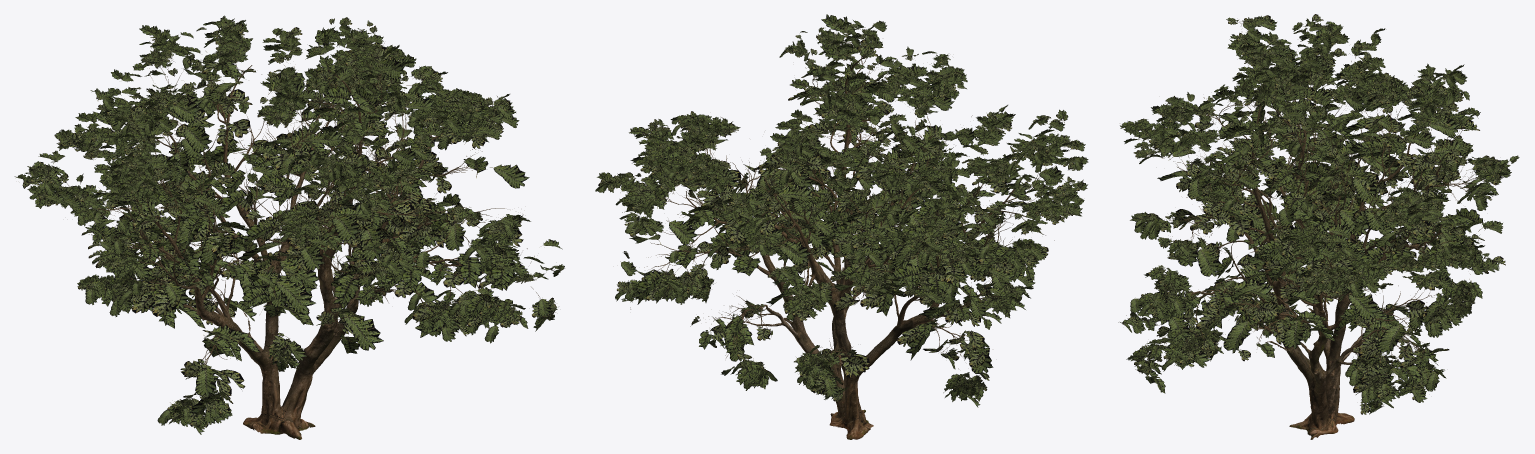
File: jacaranda_a.glb
The picture shows the model from 3 angles, left to right: view 1: azimuth 30°, elevation 25°; view 2: azimuth 150°, elevation 25°; view 3: azimuth 270°, elevation 25°; orthographic projection. The views are drawn at different scales.
Visible parts, largest first — view 1: jacaranda_tree_LOD0; view 2: jacaranda_tree_LOD0; view 3: jacaranda_tree_LOD0.
Part boxes in pixels (<box>): jacaranda_tree_LOD0: <box>14,15,564,439</box>; jacaranda_tree_LOD0: <box>595,14,1088,439</box>; jacaranda_tree_LOD0: <box>1118,14,1519,439</box>.
Bounding box in the file's own units: 24.67 × 19.5 × 18.78.
3 materials, 3 textured.
